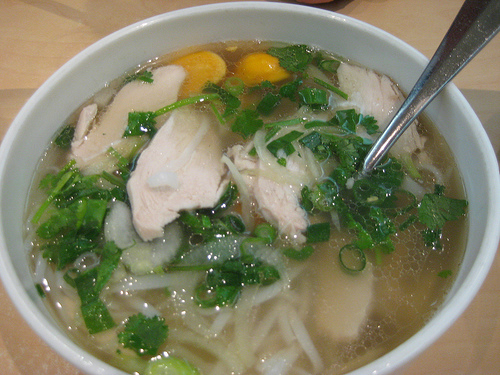egg: (233, 49, 296, 87)
